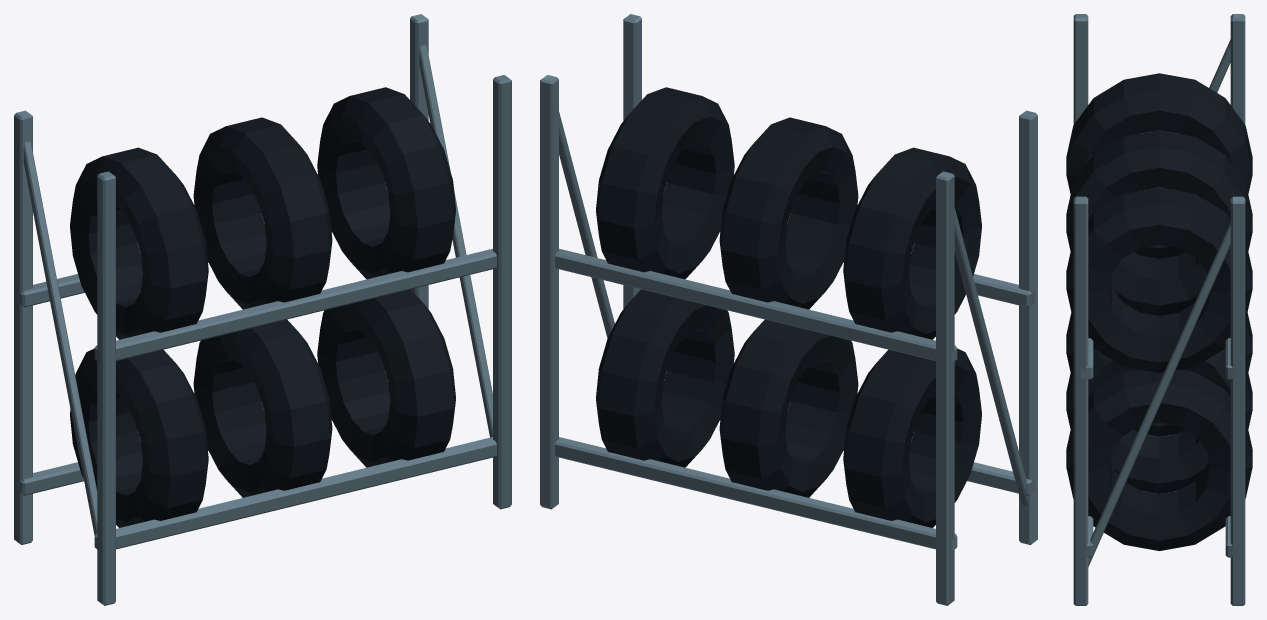
Rendered from EC_TireRack.fbx.
3 views of the same model, side by side, from view 1: azimuth 30°, elevation 25°; view 2: azimuth 150°, elevation 25°; view 3: azimuth 270°, elevation 25° (orthographic). The views are drawn at different scales.
Parts seen in each view (by area): view 1: EC_TireRack; view 2: EC_TireRack; view 3: EC_TireRack.
Boxes of the visible parts, x1=… form: EC_TireRack: x1=14, y1=14, x2=511, y2=605; EC_TireRack: x1=540, y1=14, x2=1037, y2=605; EC_TireRack: x1=1066, y1=14, x2=1252, y2=605.
Size of the model in its own units: 1.82 by 1.82 by 0.76.
